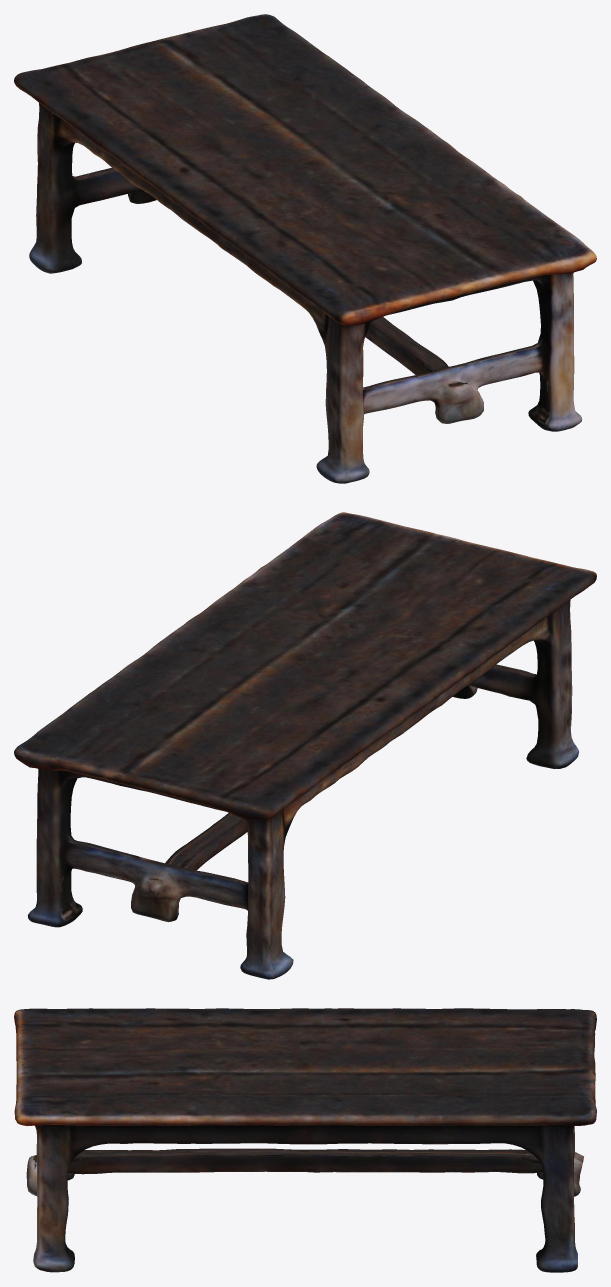
The model's file is Table 2.fbx.
3 views of the same model, one above another, from view 1: azimuth 30°, elevation 25°; view 2: azimuth 150°, elevation 25°; view 3: azimuth 270°, elevation 25° (orthographic). The views are drawn at different scales.
Visible parts, largest first — view 1: mesh; view 2: mesh; view 3: mesh.
Boxes of the visible parts, x1,y1,x2,y2 form: mesh: (14,14,596,483); mesh: (14,512,596,979); mesh: (14,1008,596,1272).
Size of the model in its own units: 45.35 by 30.34 by 99.86.
